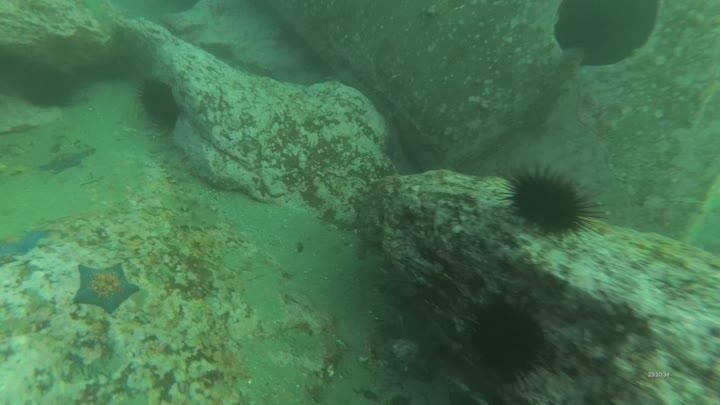echinus: (464, 295, 553, 386), (500, 164, 602, 240), (15, 62, 78, 112), (135, 76, 182, 128)
holothurian: (519, 44, 590, 137), (154, 182, 225, 234), (150, 144, 201, 198)
starfish: (70, 260, 142, 316), (1, 223, 53, 263), (36, 143, 97, 176)
